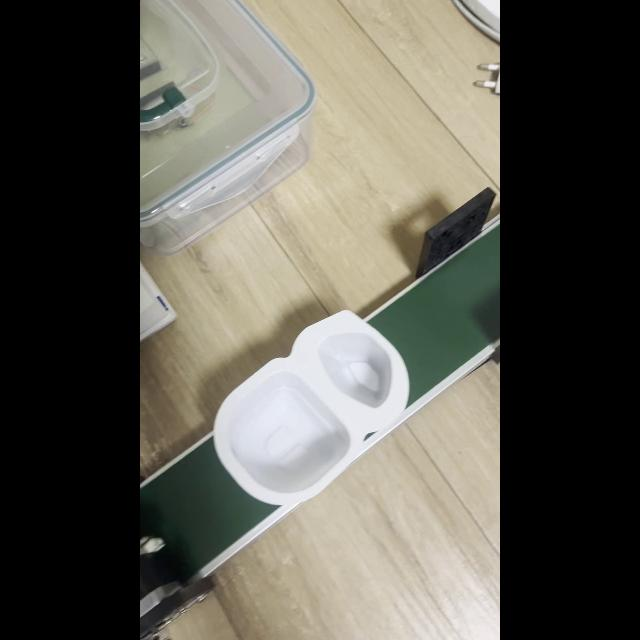clean: (220, 311, 392, 503)
